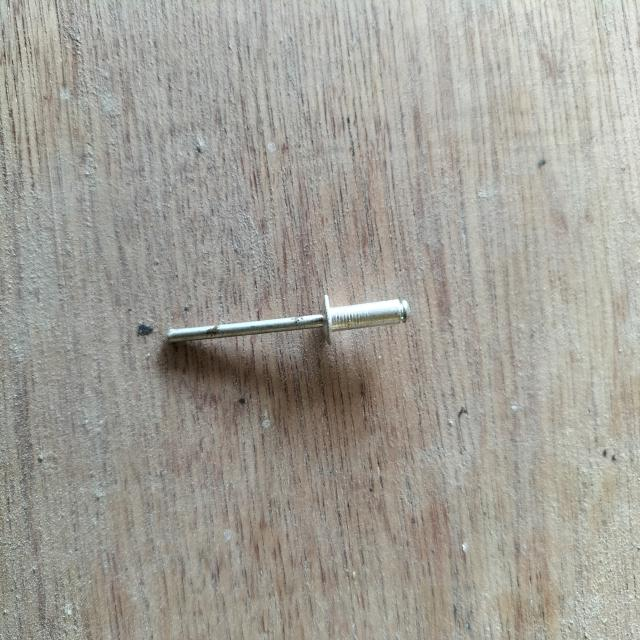rivet: (166, 292, 410, 348)
